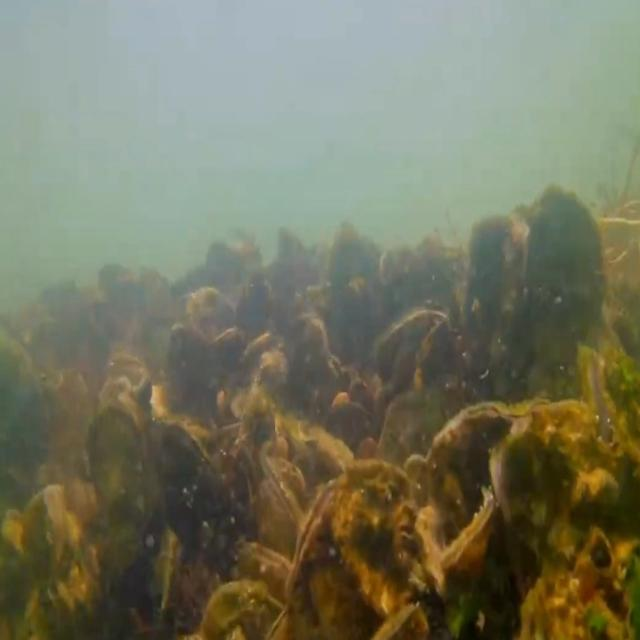Oyster-Closed: (402, 398, 552, 640), (142, 416, 260, 640), (255, 451, 306, 554), (440, 496, 496, 571), (240, 536, 296, 608)
Oyster-Indeterminate: (489, 399, 639, 640), (285, 459, 438, 640), (68, 402, 175, 640), (516, 185, 606, 405), (471, 213, 528, 387), (377, 385, 447, 468)
Oyster-Open: (373, 306, 450, 396)
